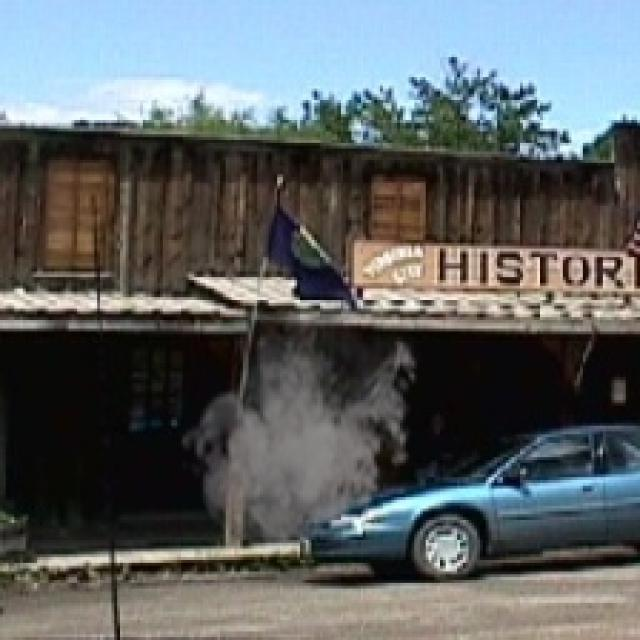Smoke: (177, 302, 423, 558)
